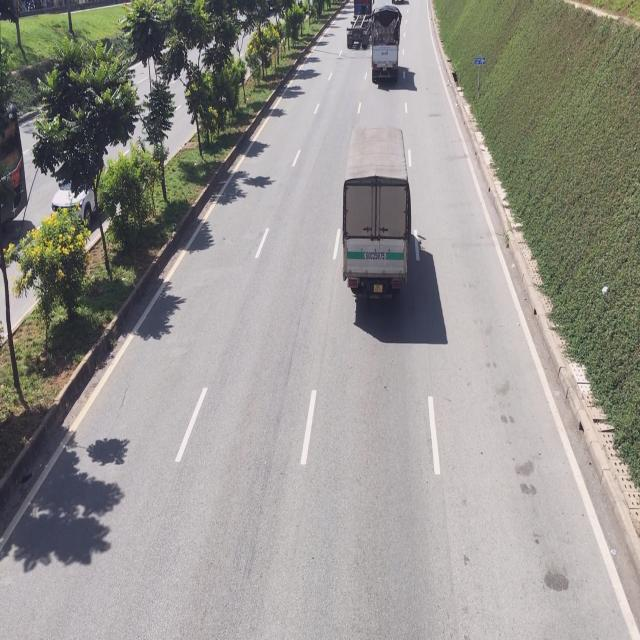truck: (342, 124, 413, 304), (372, 6, 401, 82), (346, 0, 373, 52)
